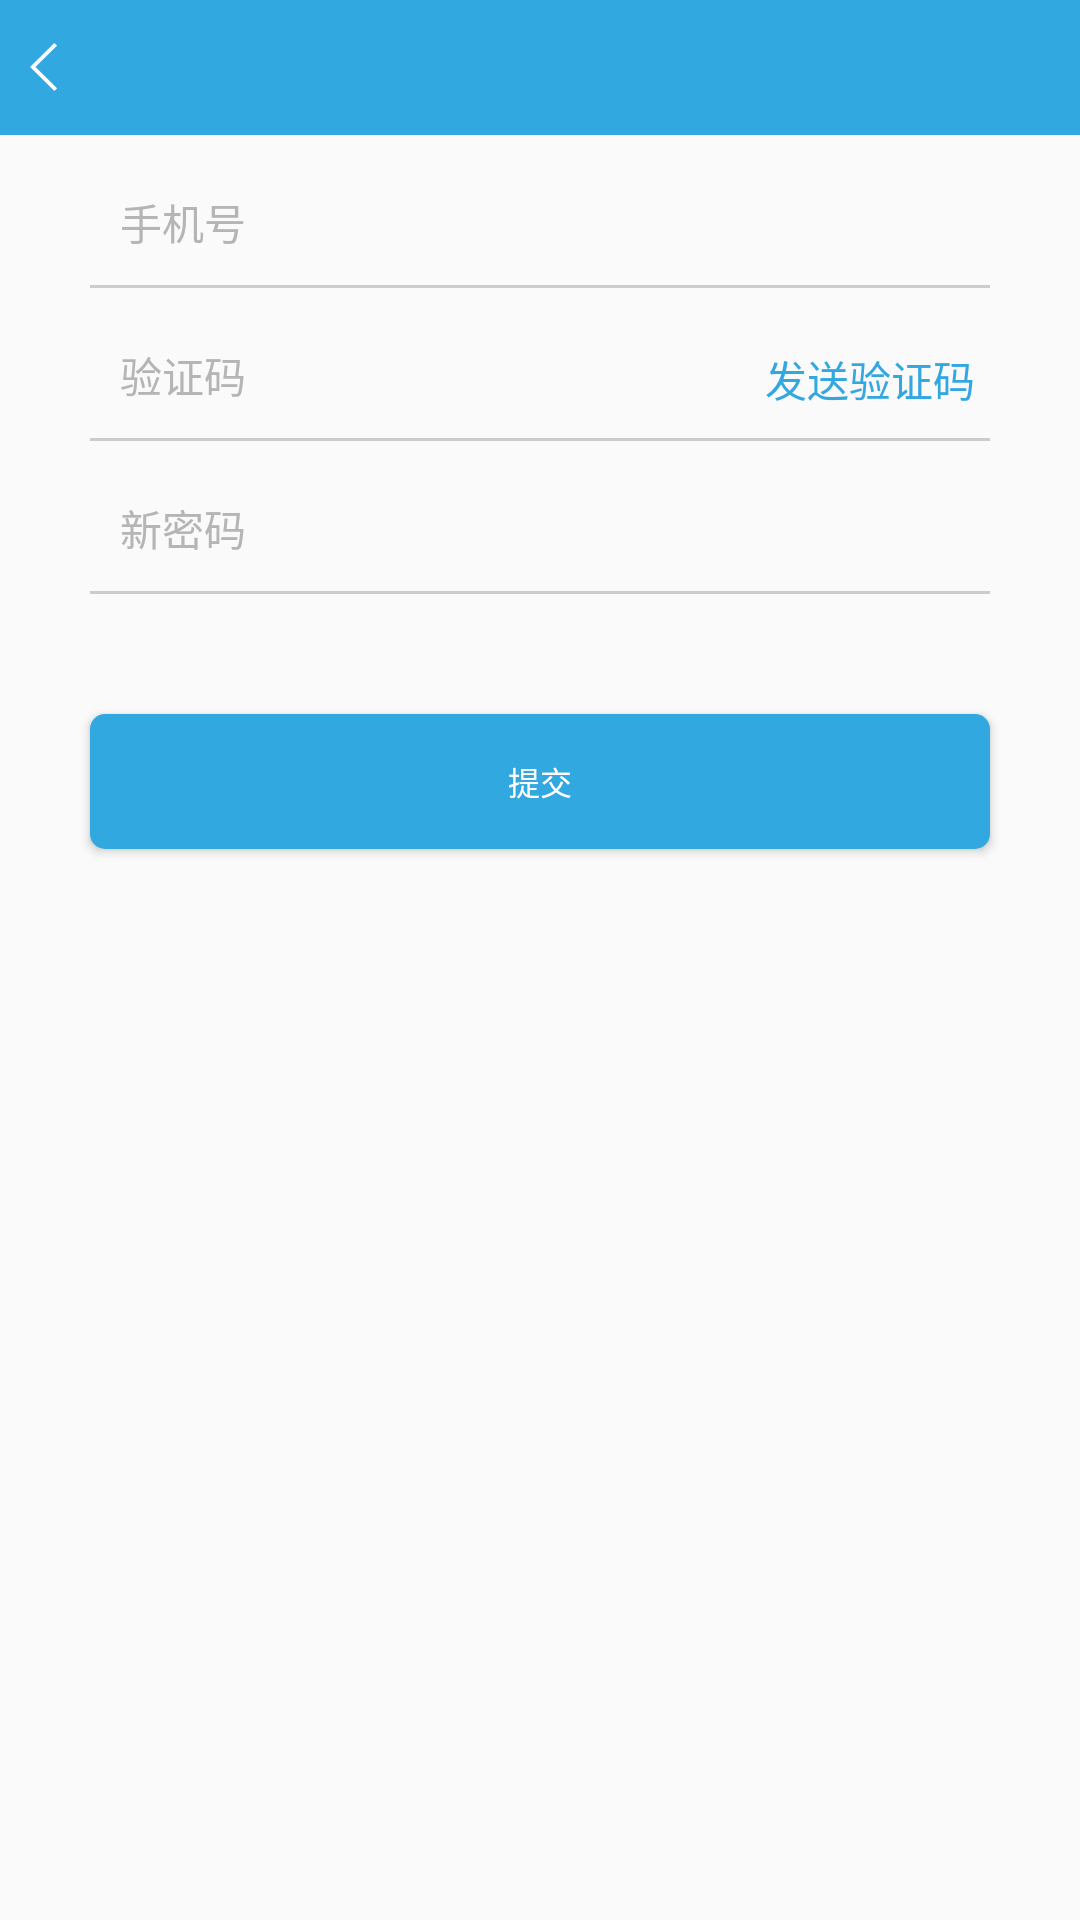

Named icons in this screenshot (1080px x 1920px) and their centers, (x,y):
back: (43,67)
